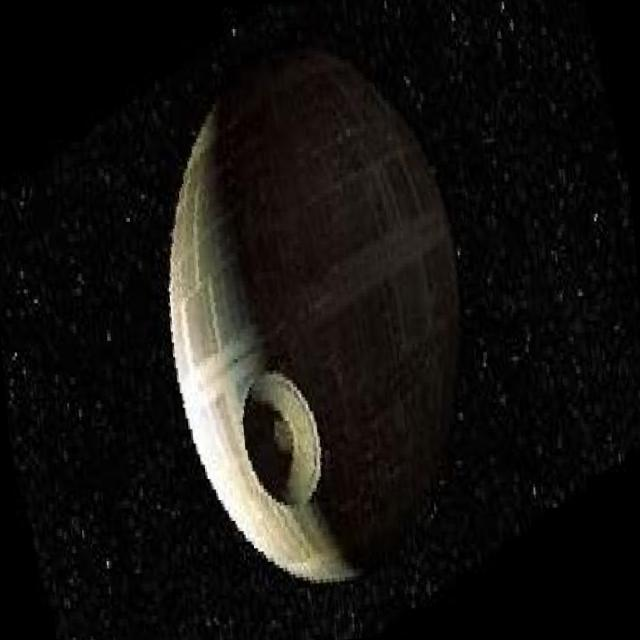Death Star: (138, 21, 487, 602)
